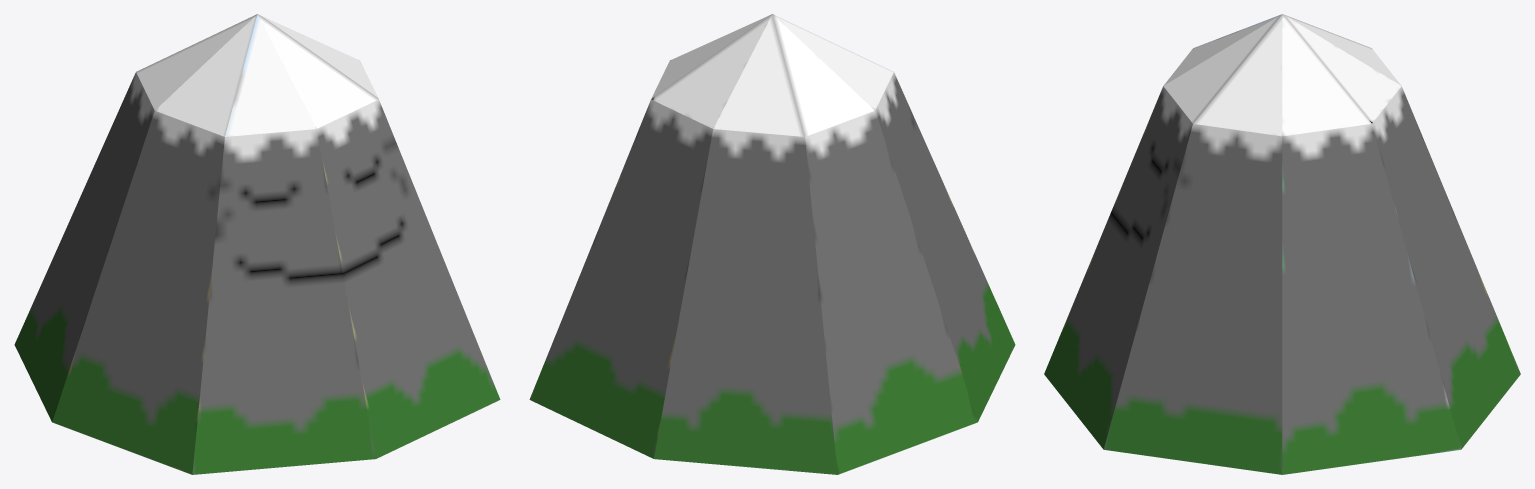
The model's file is wise-mountain.obj.
3 views of the same model, side by side, from view 1: azimuth 30°, elevation 25°; view 2: azimuth 150°, elevation 25°; view 3: azimuth 270°, elevation 25° (orthographic).
Parts seen in each view (by area): view 1: pyramid; view 2: pyramid; view 3: pyramid.
Boxes of the visible parts, left/top/right/bottom form: pyramid: left=14, top=14, right=500, bottom=474; pyramid: left=529, top=14, right=1015, bottom=474; pyramid: left=1044, top=14, right=1520, bottom=474.
Size of the model in its own units: 0.75 by 0.625 by 0.75.
1 material, 1 textured.
